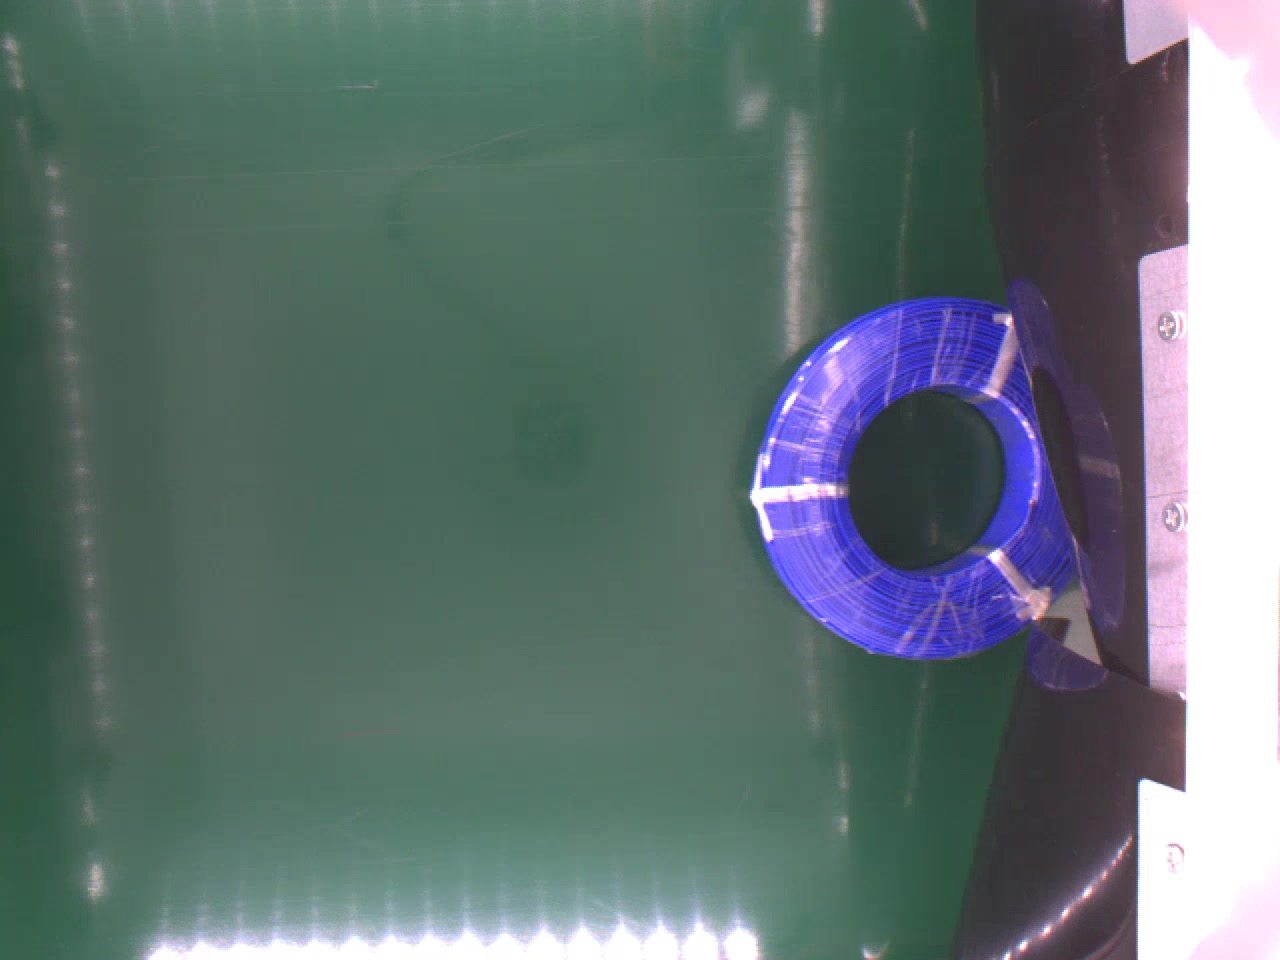blue: (749, 294, 1070, 659)
